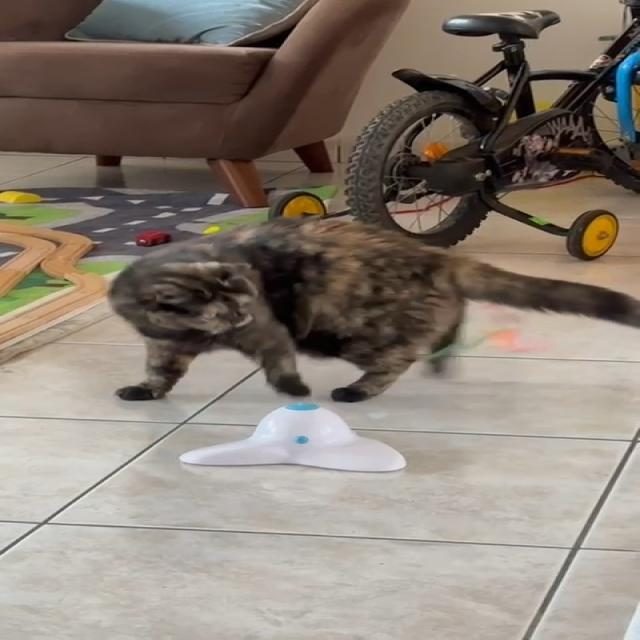authorized: (105, 216, 639, 403)
